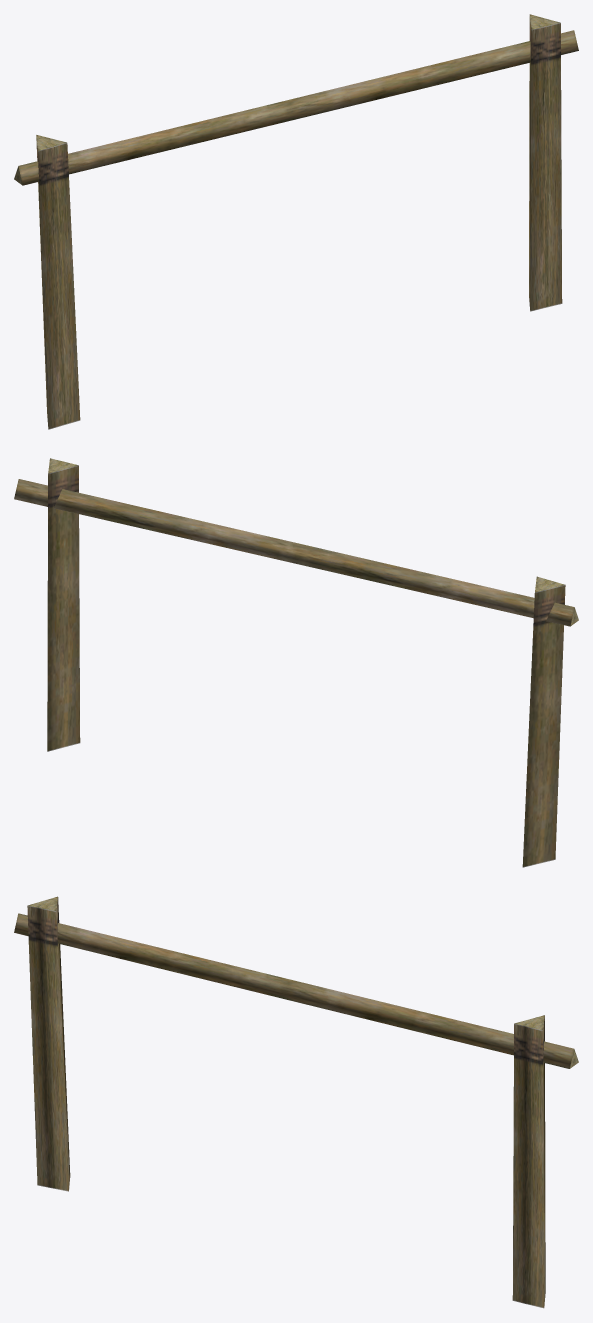
File: thm_endr_lake_rail2m_l2.fbx
The picture shows the model from 3 angles, top to bottom: view 1: azimuth 30°, elevation 25°; view 2: azimuth 150°, elevation 25°; view 3: azimuth 330°, elevation 25°; orthographic projection.
Visible parts, largest first — view 1: mesh_node; view 2: mesh_node; view 3: mesh_node.
Boxes of the visible parts, bbox=[...] form: mesh_node: bbox=[14, 14, 578, 429]; mesh_node: bbox=[14, 458, 578, 867]; mesh_node: bbox=[14, 896, 578, 1308].
Bounding box in the file's own units: 2 × 0.9654 × 0.1072.
1 material, 1 textured.
